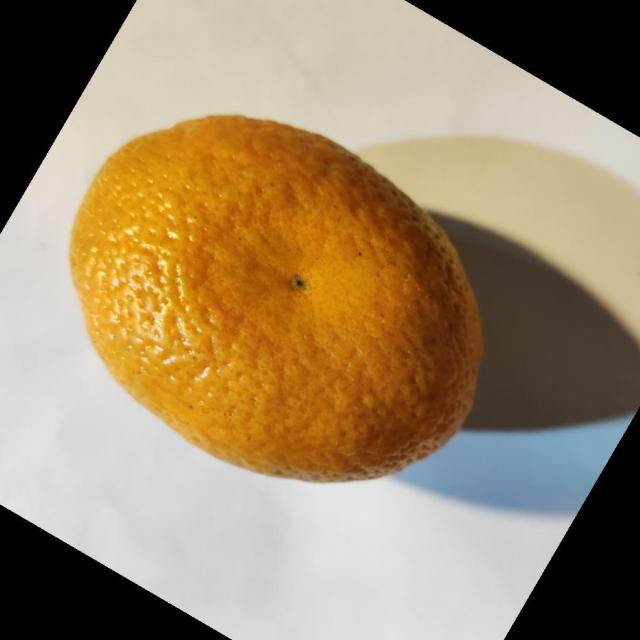fresh orange: (68, 112, 485, 484)
